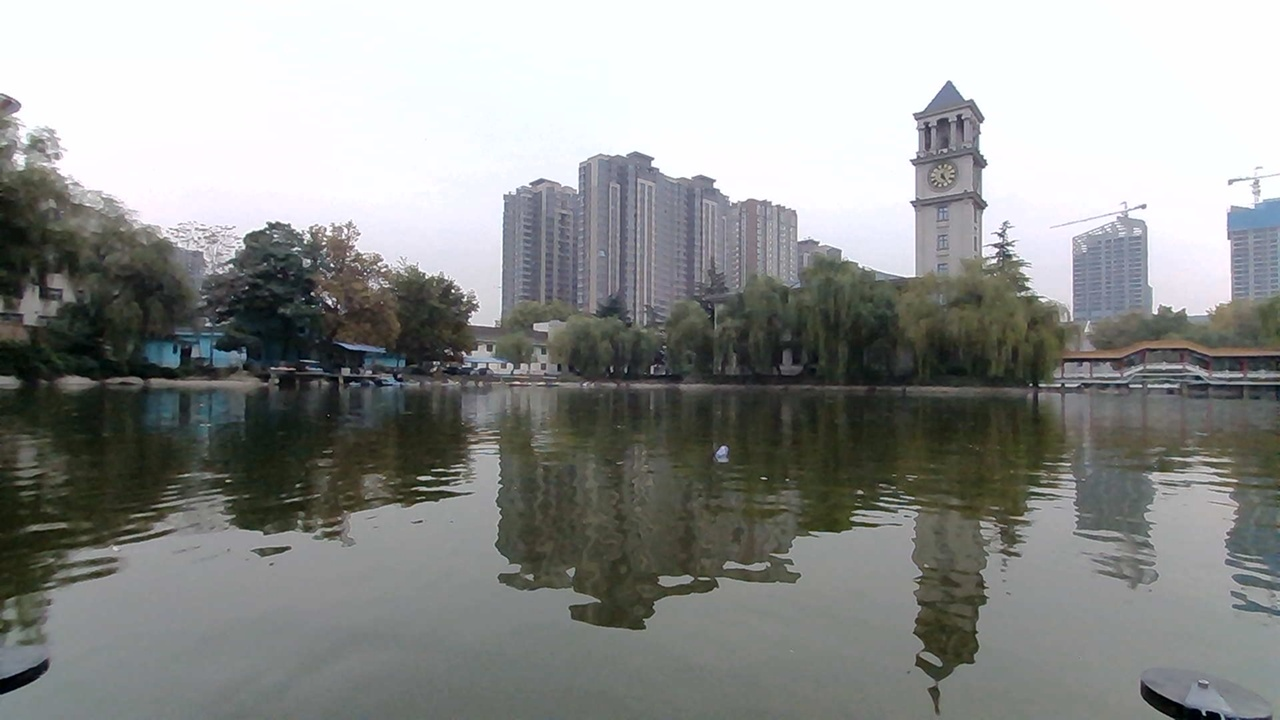bottle: (699, 440, 748, 472)
